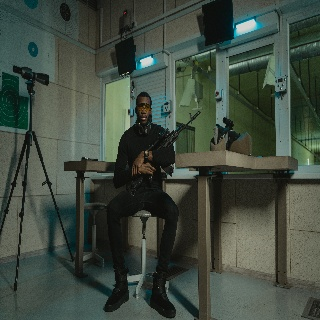rifle: (124, 110, 203, 200), (212, 116, 243, 150)
